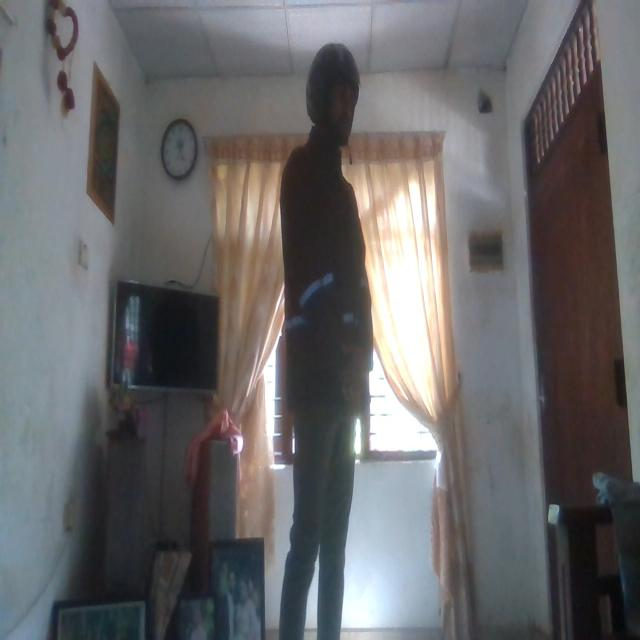Helmet_Wearer: (296, 38, 364, 138)
Jacket_Wearer: (273, 128, 373, 426)
Person: (272, 35, 372, 620)
